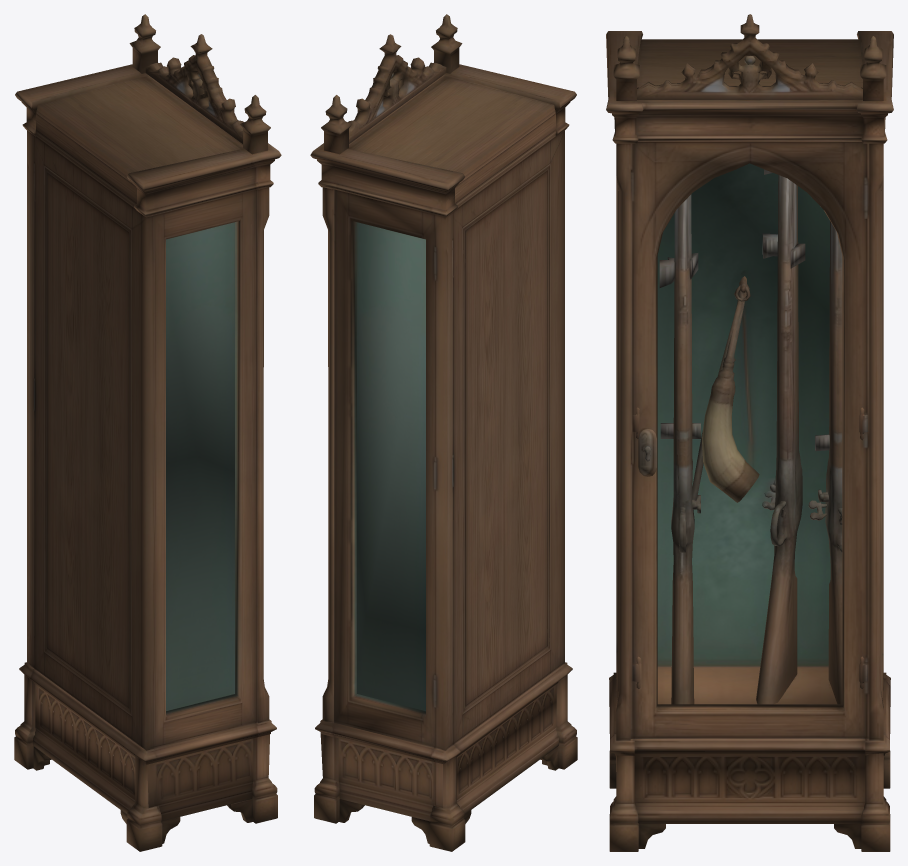
The model's file is SM_Env_BaskervilleGunCabinet.fbx.
The picture shows the model from 3 angles, left to right: view 1: azimuth 30°, elevation 25°; view 2: azimuth 150°, elevation 25°; view 3: azimuth 270°, elevation 25°; orthographic projection. The views are drawn at different scales.
Visible parts, largest first — view 1: SM_Env_BaskervilleGunCabinet; view 2: SM_Env_BaskervilleGunCabinet; view 3: SM_Env_BaskervilleGunCabinet.
Part boxes in pixels (x1=…): SM_Env_BaskervilleGunCabinet: x1=14, y1=14, x2=281, y2=851; SM_Env_BaskervilleGunCabinet: x1=310, y1=14, x2=577, y2=851; SM_Env_BaskervilleGunCabinet: x1=606, y1=14, x2=893, y2=851.
Size of the model in its own units: 11.28 by 17.9 by 57.
1 material, 1 textured.
